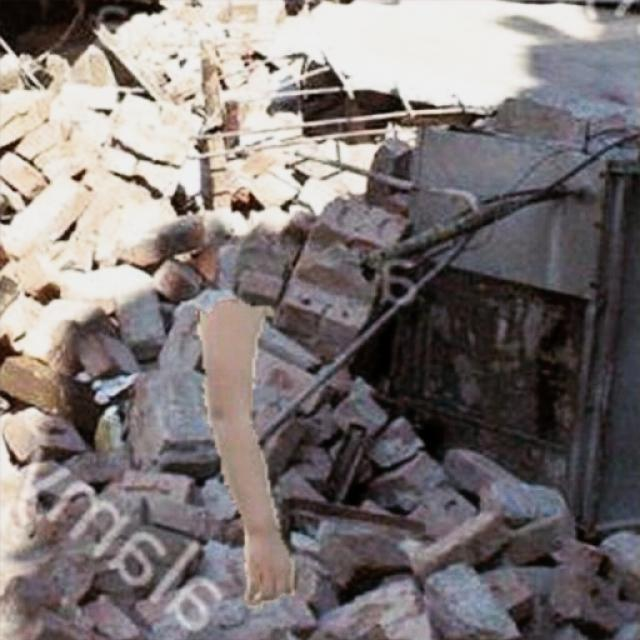Person in Rubble: (195, 296, 295, 608)
